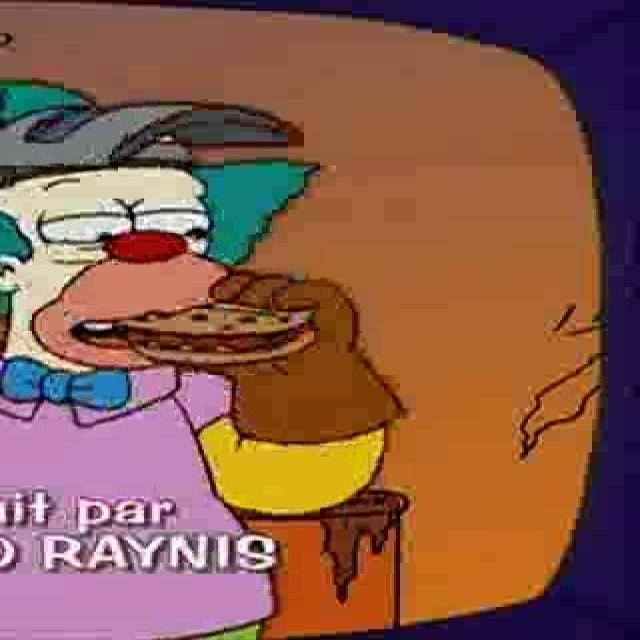Krusty the Clown: (1, 158, 343, 391)
